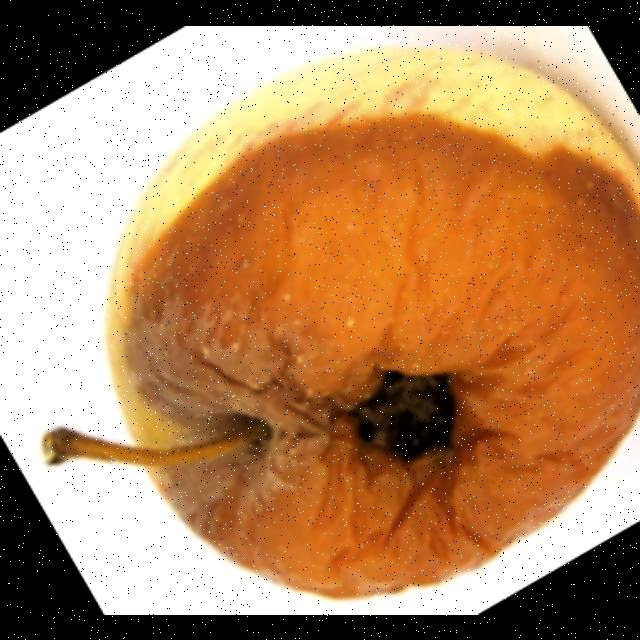Apel Tidak Segar: (116, 101, 640, 600)
